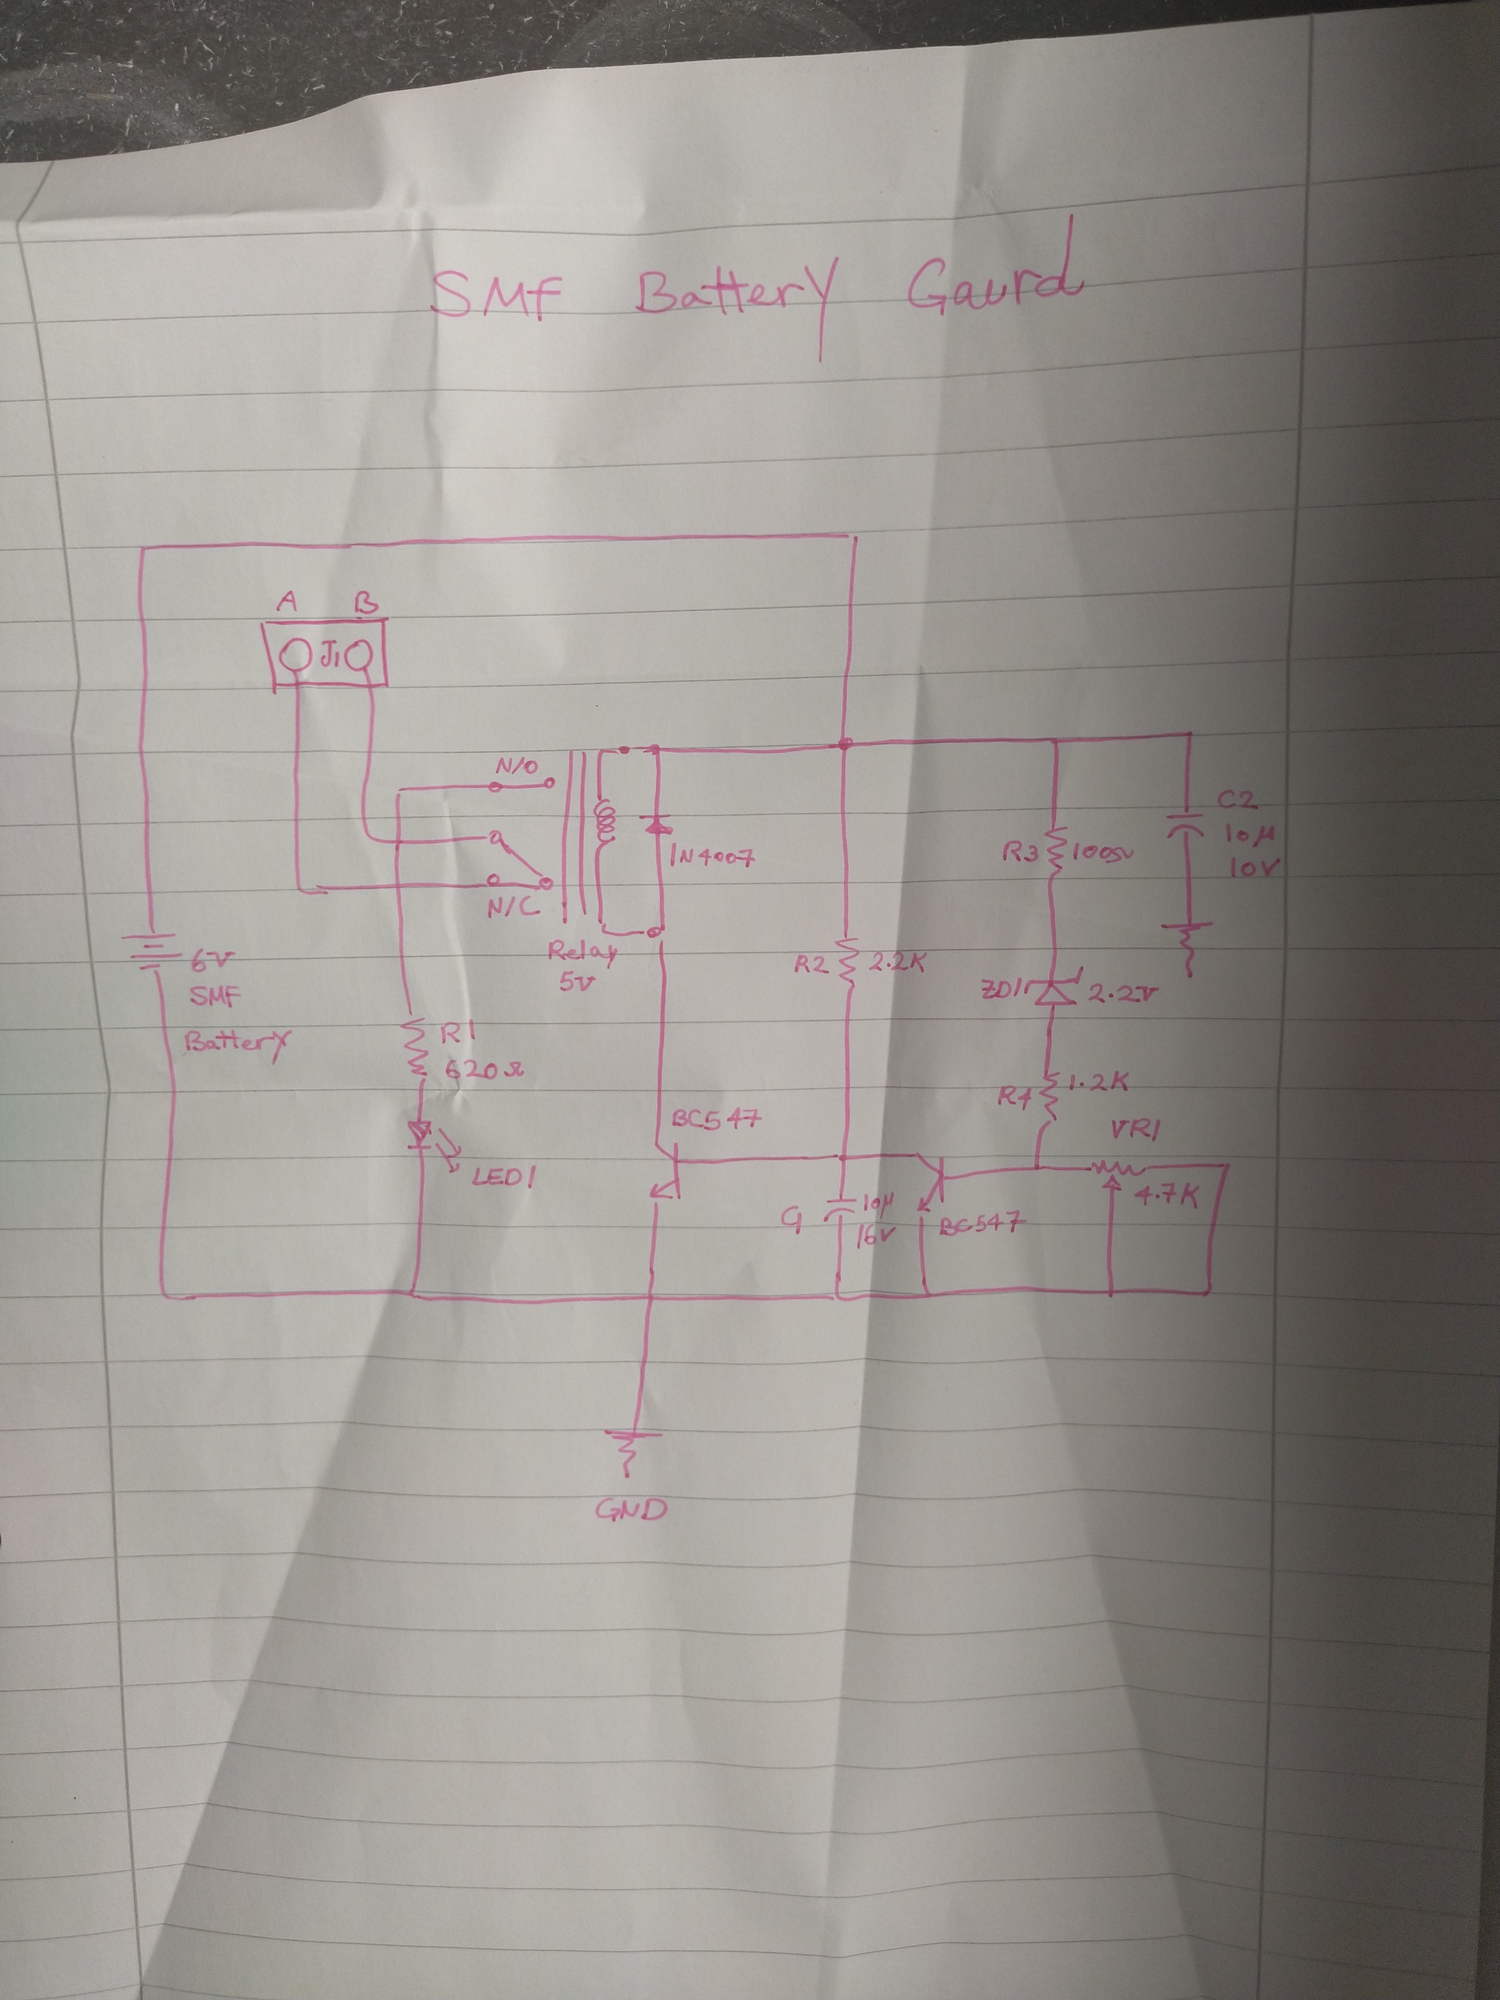capacitor.unpolarized: (1164, 808, 1209, 841), (821, 1195, 860, 1227)
crossover: (386, 835, 407, 850), (388, 877, 407, 893)
diode: (1023, 964, 1086, 1008), (640, 811, 676, 839)
diode.light_emitting: (403, 1117, 466, 1170)
gnd: (600, 1424, 662, 1476), (1158, 921, 1213, 973)
junction: (151, 1282, 180, 1306), (644, 920, 670, 942), (403, 1280, 425, 1302), (834, 734, 856, 754), (132, 539, 153, 559), (291, 879, 314, 898), (841, 526, 865, 543), (641, 1288, 662, 1307), (361, 827, 380, 846), (1101, 1282, 1119, 1301), (648, 742, 666, 759), (391, 781, 408, 798), (829, 1288, 848, 1304), (834, 1150, 852, 1165), (1046, 732, 1064, 748), (1216, 1157, 1234, 1173), (1199, 1283, 1215, 1299), (1029, 1157, 1045, 1173), (1182, 728, 1197, 742), (919, 1287, 934, 1301)
relay: (484, 743, 635, 942)
resistor: (400, 1008, 435, 1087), (1037, 827, 1071, 880), (1034, 1069, 1064, 1131), (832, 932, 862, 994)
resistor.adjustable: (1089, 1157, 1150, 1194)
terminal: (277, 635, 314, 672), (343, 638, 375, 672)
text: (429, 208, 1089, 365), (180, 1024, 296, 1069), (663, 1102, 763, 1135), (666, 839, 756, 872), (592, 1491, 670, 1526), (936, 1209, 1024, 1239), (1130, 1178, 1205, 1213), (443, 1054, 529, 1083), (462, 1159, 539, 1192), (1086, 980, 1166, 1009), (1064, 839, 1134, 868), (1226, 850, 1286, 883), (547, 935, 613, 965), (1105, 1113, 1163, 1146), (862, 948, 930, 976), (1065, 1068, 1134, 1094), (1223, 817, 1278, 850), (484, 888, 547, 917), (184, 980, 239, 1011), (184, 943, 236, 976), (493, 754, 548, 783), (555, 965, 605, 994), (1213, 784, 1264, 813), (997, 838, 1045, 868), (978, 973, 1024, 1003), (856, 1222, 897, 1250), (994, 1082, 1030, 1113), (440, 1017, 477, 1046), (351, 587, 384, 617), (860, 1192, 895, 1220), (793, 953, 834, 976), (778, 1203, 805, 1236), (317, 636, 342, 671), (274, 584, 303, 614)
transistor: (909, 1146, 953, 1211), (646, 1150, 689, 1205)
voltage.dc: (118, 928, 184, 973)
